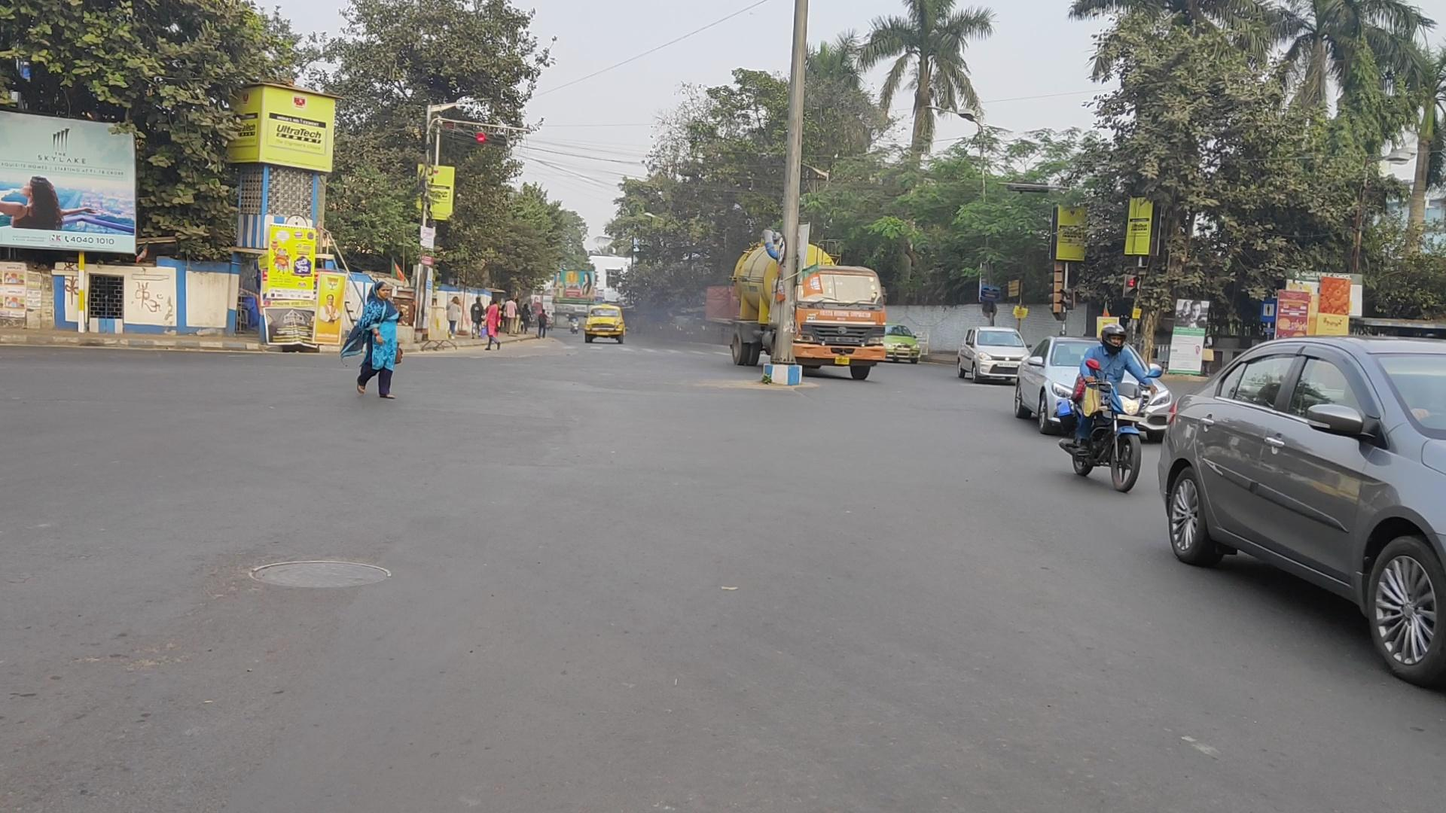bike: (1056, 324, 1162, 492)
car: (1158, 334, 1446, 686), (1014, 335, 1174, 446), (958, 325, 1035, 384), (584, 303, 625, 346), (884, 323, 922, 364)
truck: (731, 231, 886, 382)
